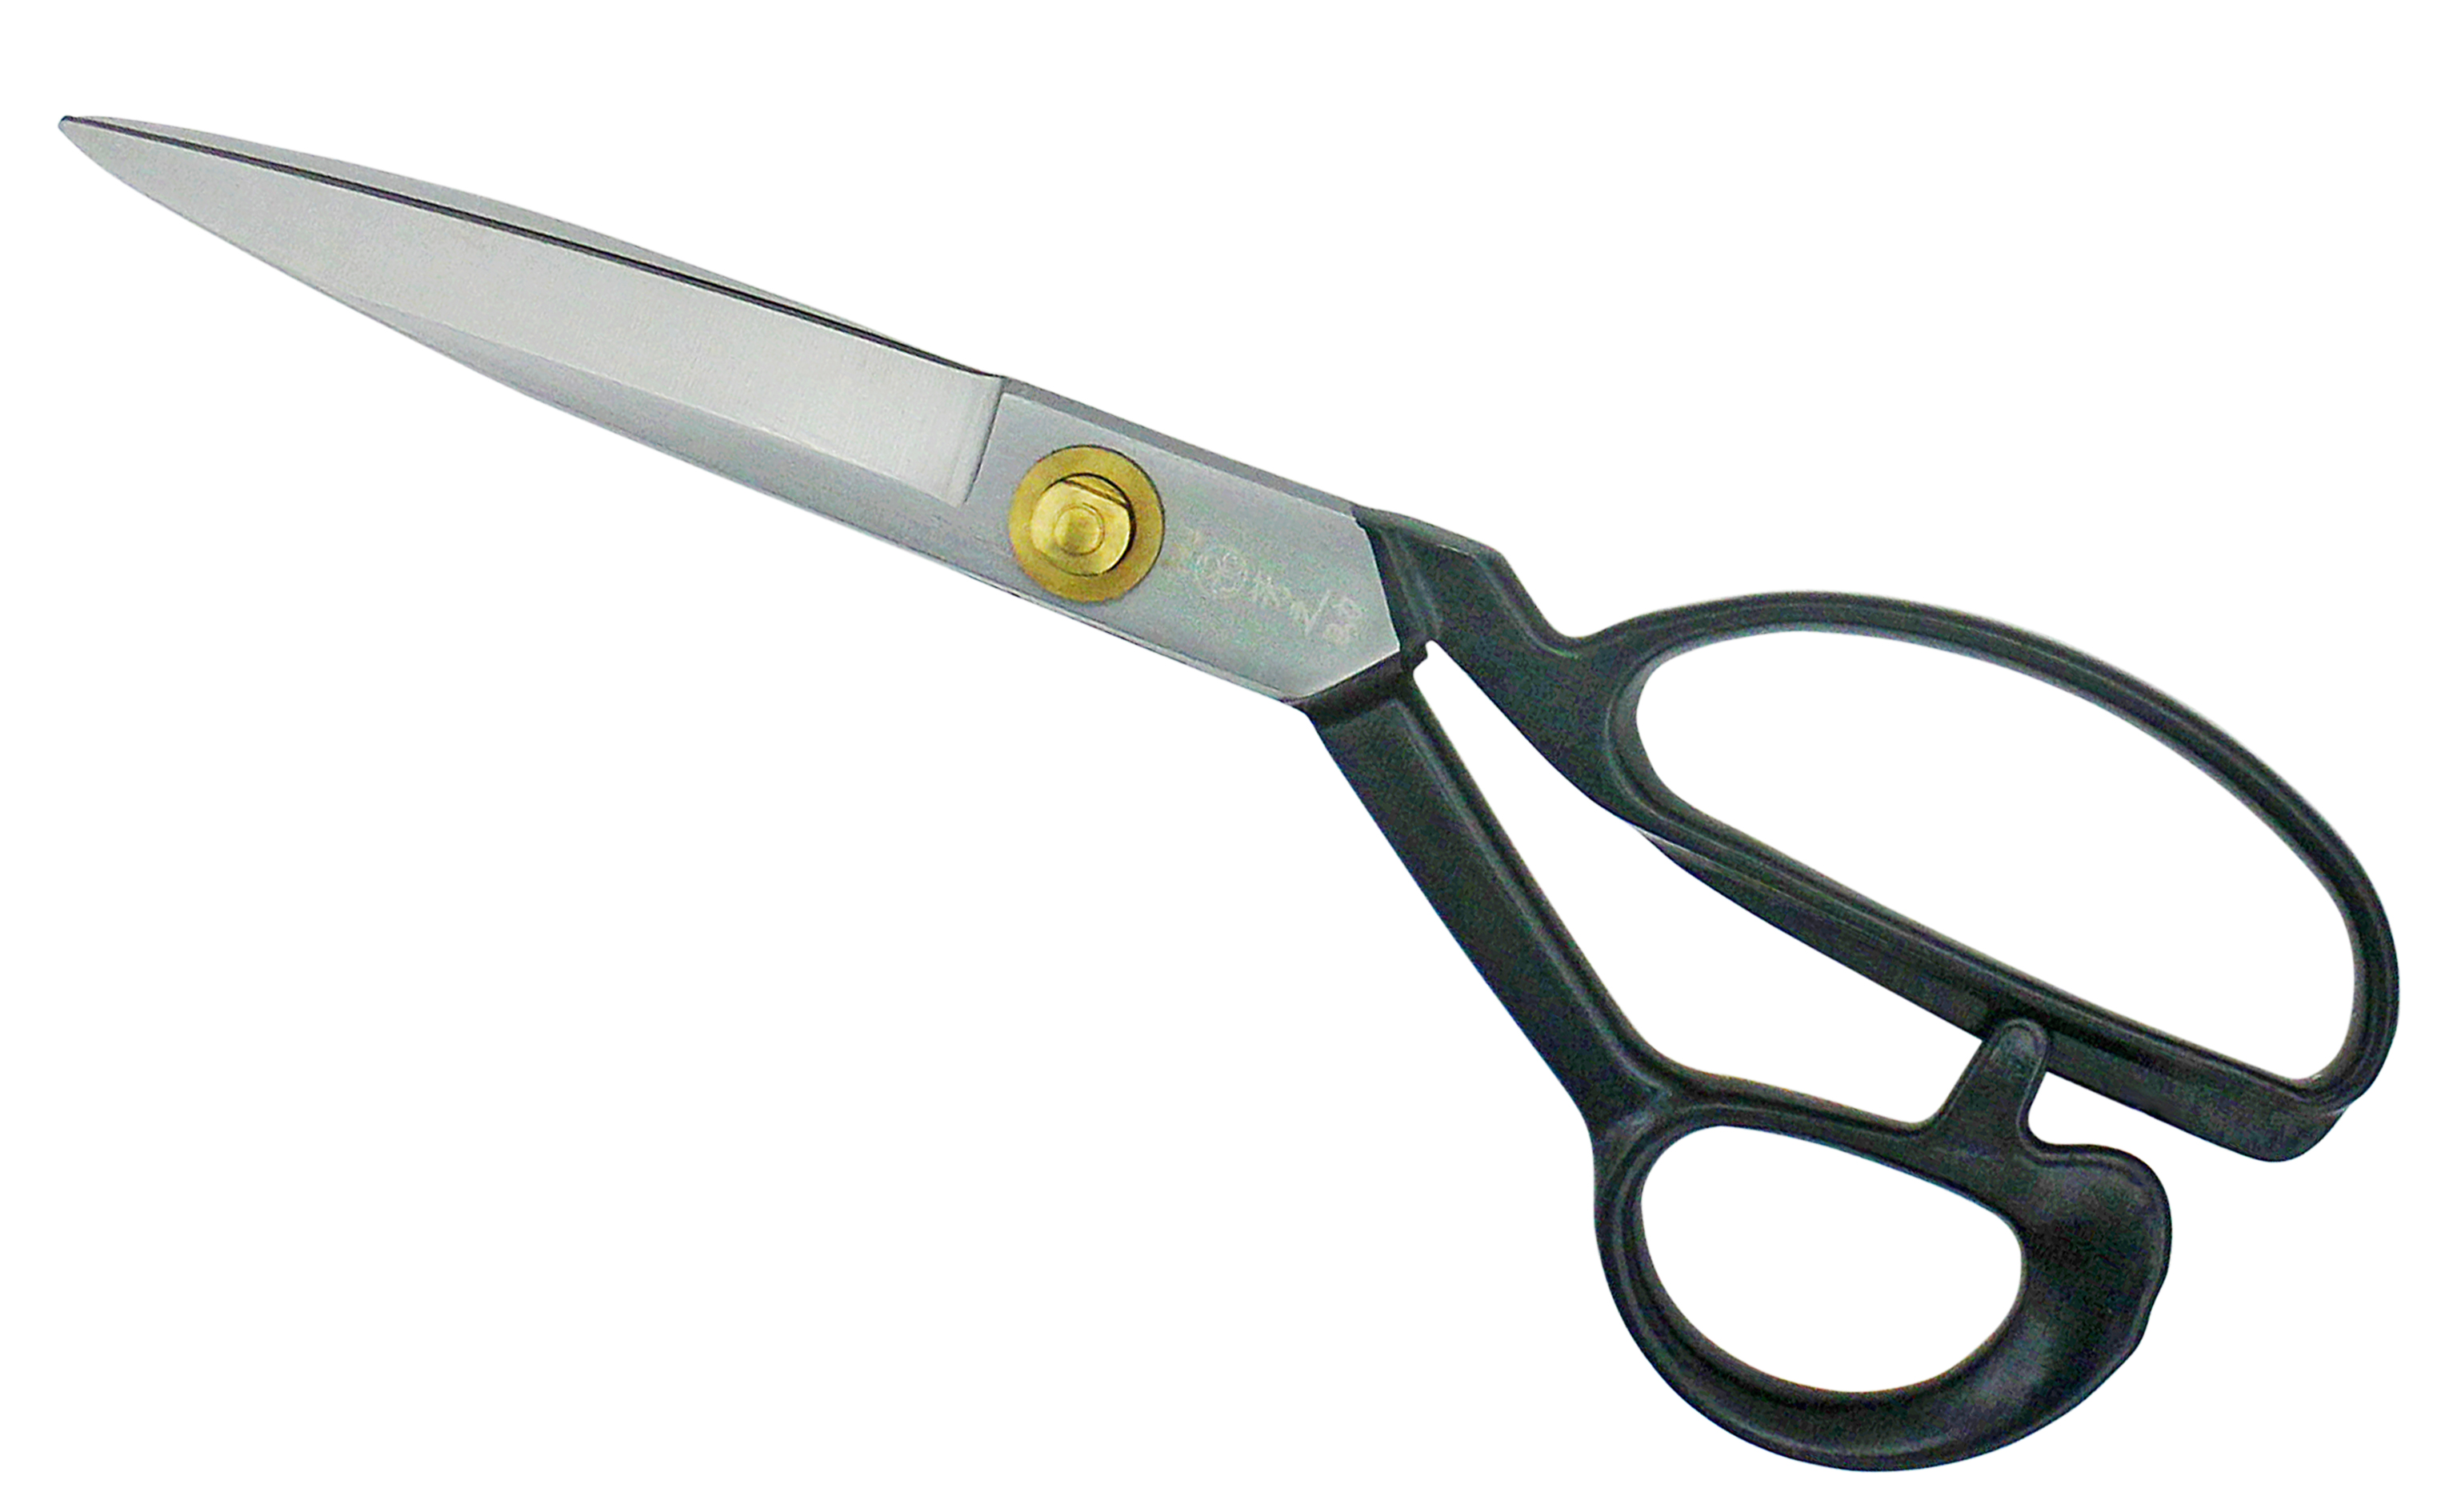scissors: (44, 100, 2412, 1482)
